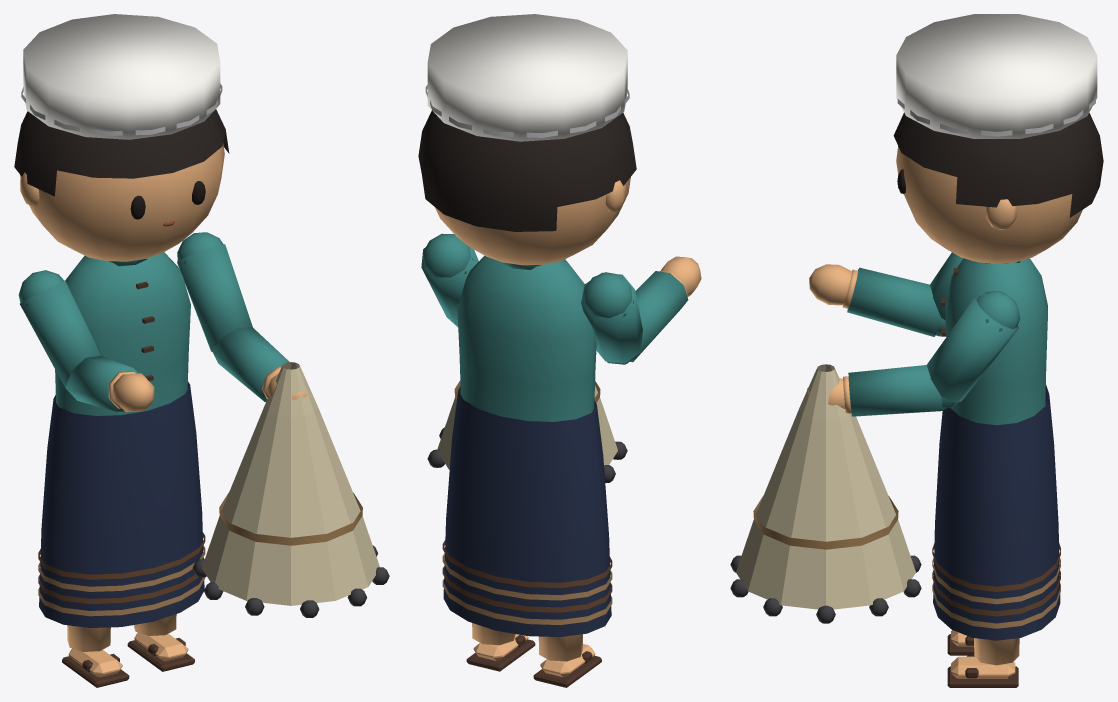
Rendered from south_net_fisher.glb.
3 views of the same model, side by side, from view 1: azimuth 30°, elevation 25°; view 2: azimuth 150°, elevation 25°; view 3: azimuth 270°, elevation 25° (orthographic).
Visible parts, largest first — view 1: body, head, prop_cast_net, arm_L, arm_R, forearm_R, forearm_L, shin_R, shin_L; view 2: body, head, arm_R, forearm_R, arm_L, shin_R, prop_cast_net, shin_L; view 3: head, body, prop_cast_net, arm_L, forearm_R, forearm_L, shin_L, arm_R, shin_R.
Boxes of the visible parts, left/top/right/bottom form: body: left=38, top=252, right=205, bottom=627; head: left=14, top=14, right=229, bottom=261; prop_cast_net: left=192, top=362, right=389, bottom=617; arm_L: left=177, top=232, right=252, bottom=351; arm_R: left=18, top=270, right=102, bottom=387; forearm_R: left=65, top=356, right=154, bottom=412; forearm_L: left=211, top=327, right=307, bottom=402; shin_R: left=62, top=625, right=129, bottom=687; shin_L: left=127, top=614, right=194, bottom=671; body: left=442, top=255, right=612, bottom=637; head: left=418, top=14, right=636, bottom=265; arm_R: left=581, top=272, right=642, bottom=364; forearm_R: left=609, top=256, right=701, bottom=363; arm_L: left=421, top=233, right=478, bottom=327; shin_R: left=533, top=634, right=601, bottom=687; prop_cast_net: left=427, top=380, right=627, bottom=482; shin_L: left=466, top=623, right=535, bottom=671; head: left=893, top=14, right=1103, bottom=263; body: left=932, top=258, right=1060, bottom=640; prop_cast_net: left=730, top=364, right=921, bottom=623; arm_L: left=927, top=291, right=1020, bottom=409; forearm_R: left=809, top=264, right=945, bottom=336; forearm_L: left=806, top=365, right=954, bottom=416; shin_L: left=947, top=638, right=1019, bottom=687; arm_R: left=930, top=252, right=963, bottom=336; shin_R: left=947, top=630, right=974, bottom=655.
Size of the model in its own units: 0.7024 by 1.49 by 0.8282.
